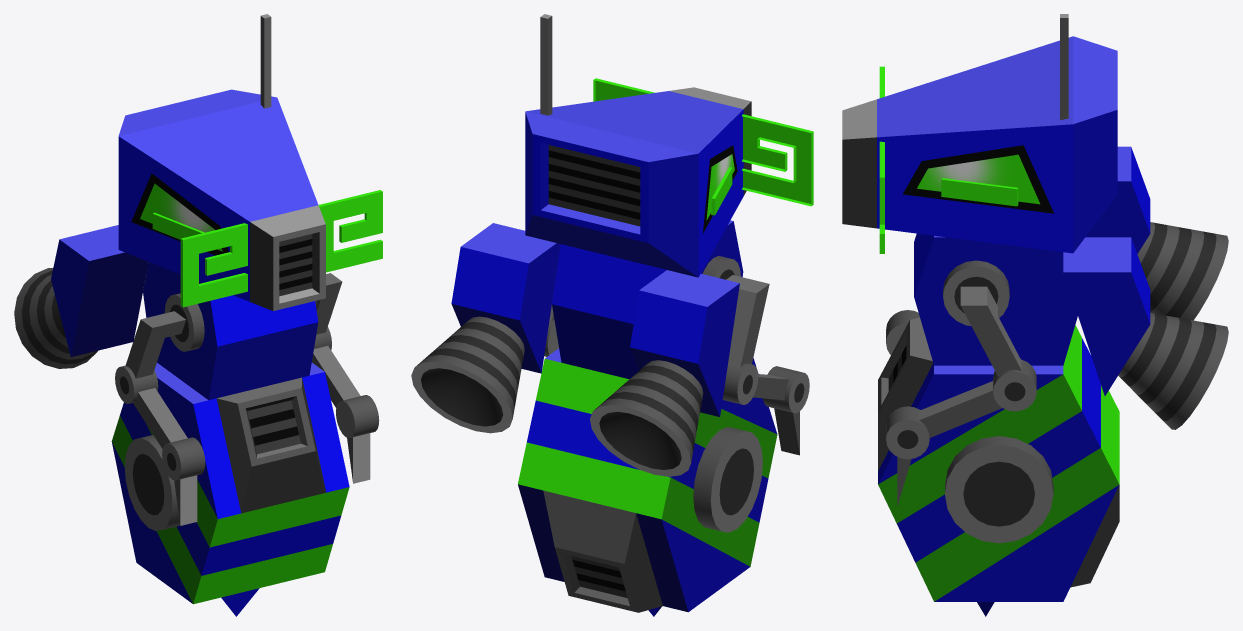
The picture shows the model from 3 angles, left to right: view 1: azimuth 30°, elevation 25°; view 2: azimuth 150°, elevation 25°; view 3: azimuth 270°, elevation 25°; orthographic projection. The views are drawn at different scales.
Parts seen in each view (by area): view 1: Ch_208, Ch_208_Head, Ch_208_Chest, Ch_208_Arm_L, Ch_208_Arm_R, Ch_208_Eye_03_L, Ch_208_Eye_03_R, Ch_208_Eye_01, Ch_208_Eye_02; view 2: Ch_208_Chest, Ch_208, Ch_208_Head, Ch_208_Arm_L, Ch_208_Eye_03_L, Ch_208_Eye_03_R, Ch_208_Eye_01; view 3: Ch_208, Ch_208_Head, Ch_208_Chest, Ch_208_Arm_R, Ch_208_Eye_01, Ch_208_Eye_02, Ch_208_Arm_L, Ch_208_Eye_03_R.
Boxes of the visible parts, left/top/right/bottom form: Ch_208: left=111, top=362, right=349, bottom=616; Ch_208_Head: left=118, top=14, right=325, bottom=310; Ch_208_Chest: left=14, top=225, right=318, bottom=400; Ch_208_Arm_L: left=115, top=293, right=205, bottom=525; Ch_208_Arm_R: left=312, top=273, right=379, bottom=483; Ch_208_Eye_03_L: left=180, top=223, right=247, bottom=307; Ch_208_Eye_03_R: left=318, top=190, right=382, bottom=272; Ch_208_Eye_01: left=140, top=183, right=222, bottom=251; Ch_208_Eye_02: left=152, top=213, right=204, bottom=239; Ch_208_Chest: left=411, top=220, right=743, bottom=476; Ch_208: left=518, top=348, right=777, bottom=616; Ch_208_Head: left=525, top=14, right=751, bottom=277; Ch_208_Arm_L: left=703, top=256, right=809, bottom=455; Ch_208_Eye_03_L: left=742, top=114, right=813, bottom=206; Ch_208_Eye_03_R: left=593, top=78, right=655, bottom=101; Ch_208_Eye_01: left=706, top=154, right=734, bottom=219; Ch_208: left=878, top=317, right=1119, bottom=616; Ch_208_Head: left=842, top=14, right=1117, bottom=253; Ch_208_Chest: left=914, top=146, right=1228, bottom=429; Ch_208_Arm_R: left=886, top=260, right=1036, bottom=506; Ch_208_Eye_01: left=917, top=154, right=1039, bottom=204; Ch_208_Eye_02: left=941, top=178, right=1018, bottom=206; Ch_208_Arm_L: left=886, top=310, right=919, bottom=354; Ch_208_Eye_03_R: left=879, top=141, right=884, bottom=253.
Bounding box in the file's own units: 5.06 × 10.7 × 5.89.
